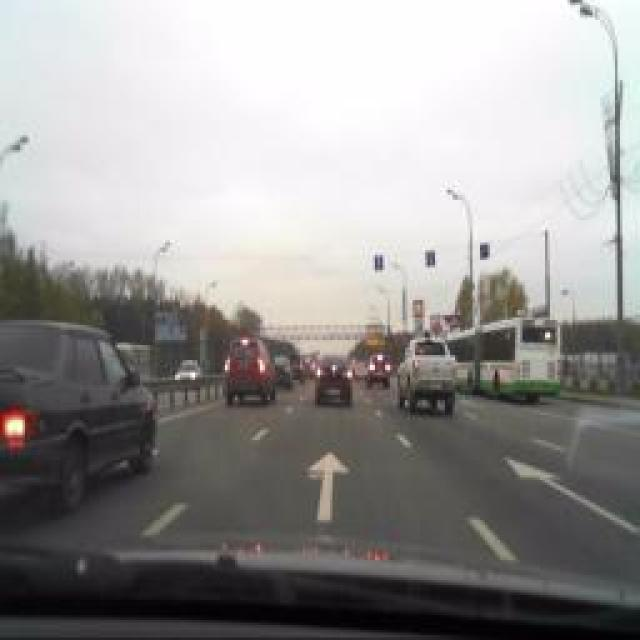sign: (425, 251, 435, 269), (479, 242, 489, 260), (374, 254, 384, 271)
